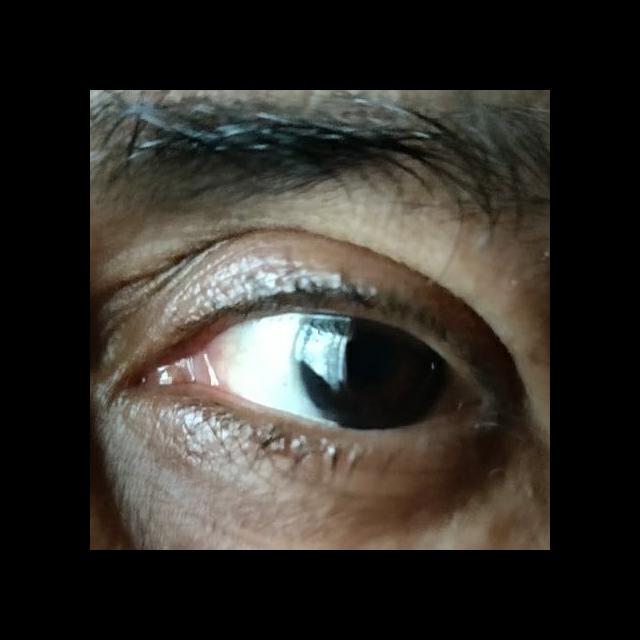eye: (207, 304, 475, 433)
iris: (290, 312, 449, 427)
